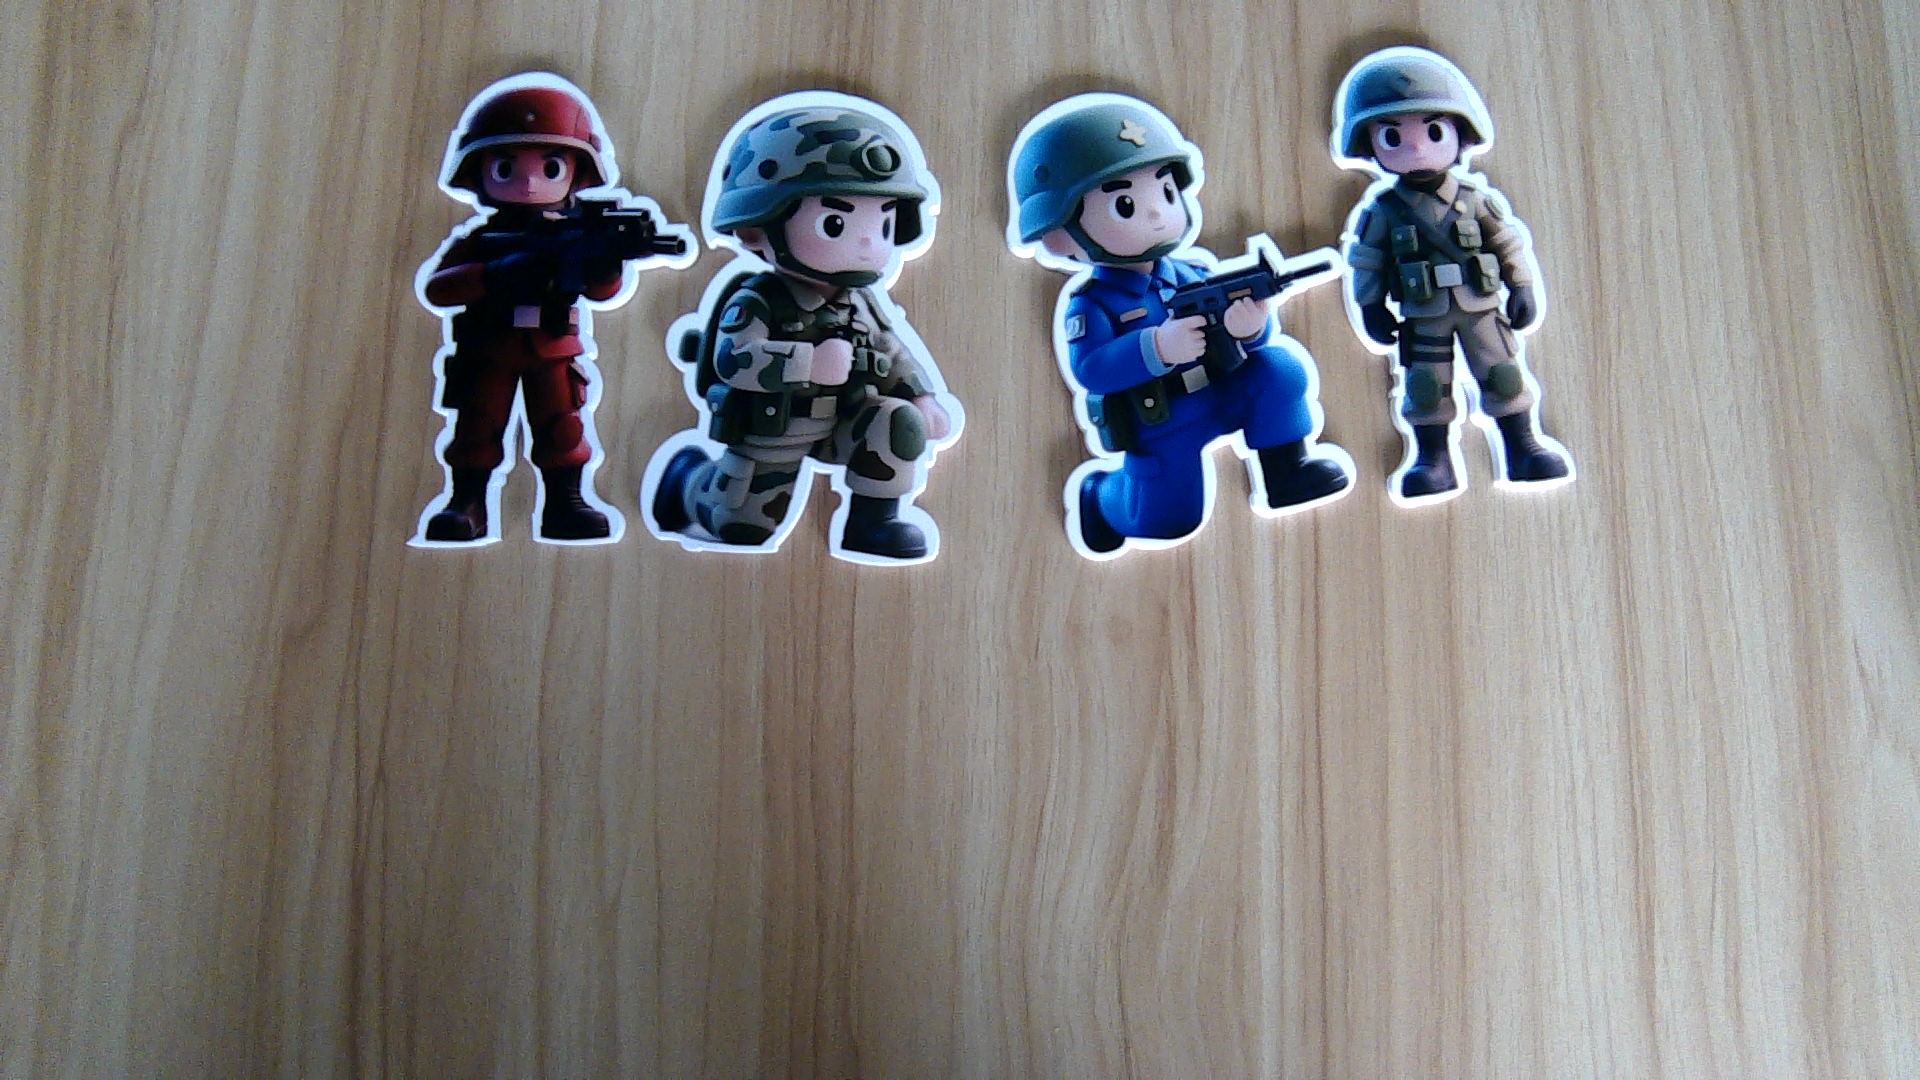友军: (638, 285, 971, 574), (1337, 174, 1582, 506)
敌人1: (404, 210, 671, 553)
敌人2: (1036, 270, 1358, 553)
